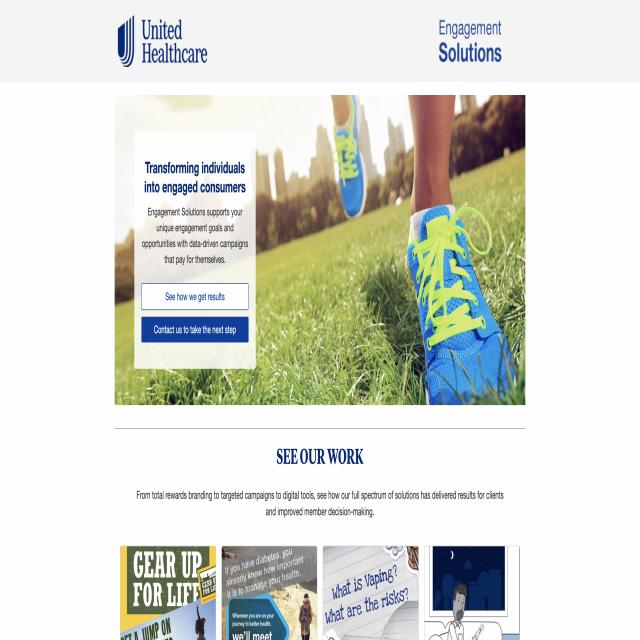Logo: (110, 3, 220, 82)
